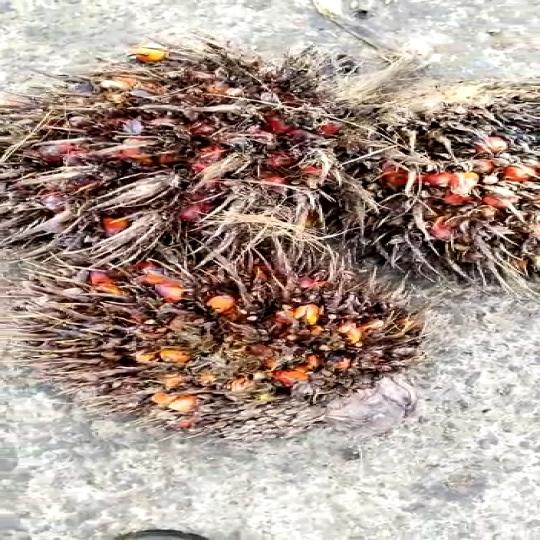terlalu masak: (0, 47, 391, 270), (13, 243, 432, 420), (342, 94, 540, 255)
